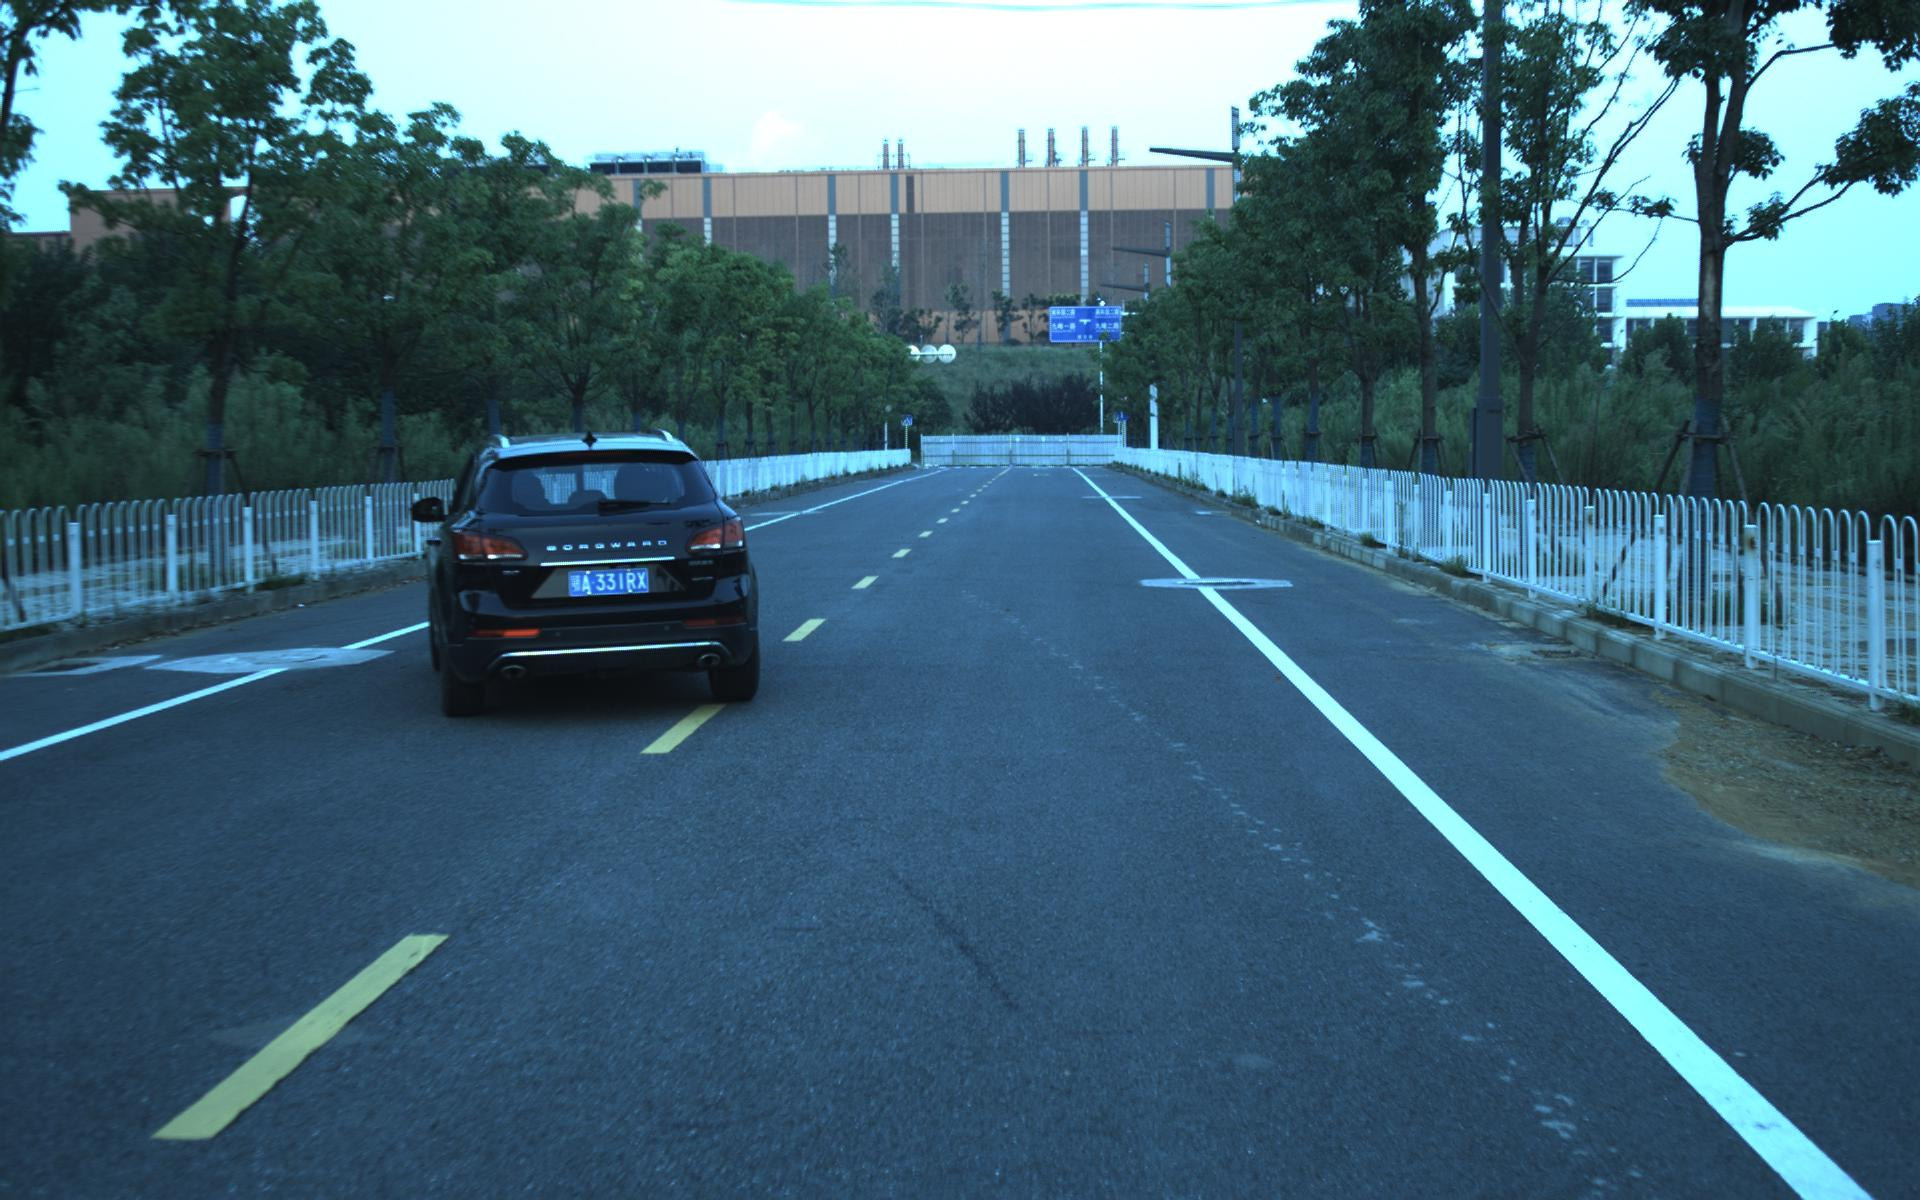Car: (417, 426, 774, 722)
